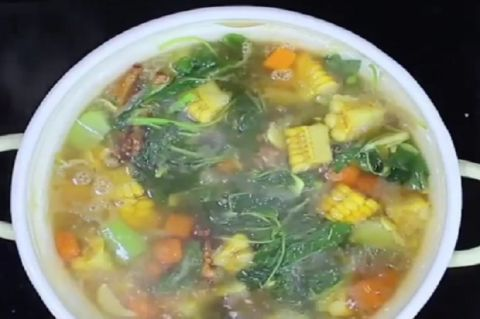Sayur Bayam: (28, 50, 425, 307)
